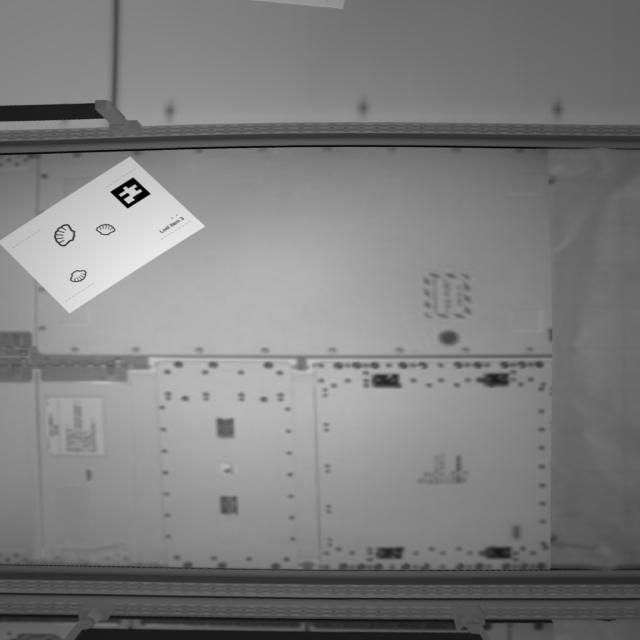shell: (51, 224, 82, 251), (68, 270, 94, 288), (96, 223, 120, 238)
